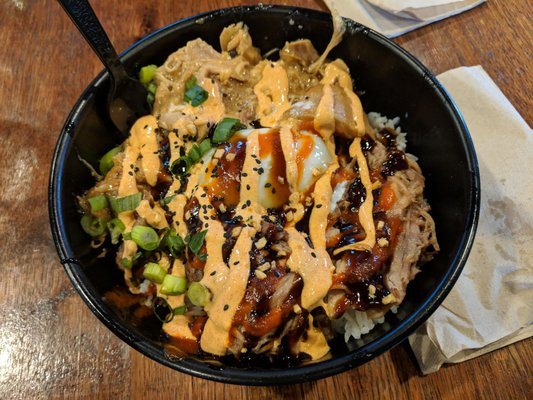salad: (57, 1, 153, 127)
sushi: (13, 0, 482, 387)
